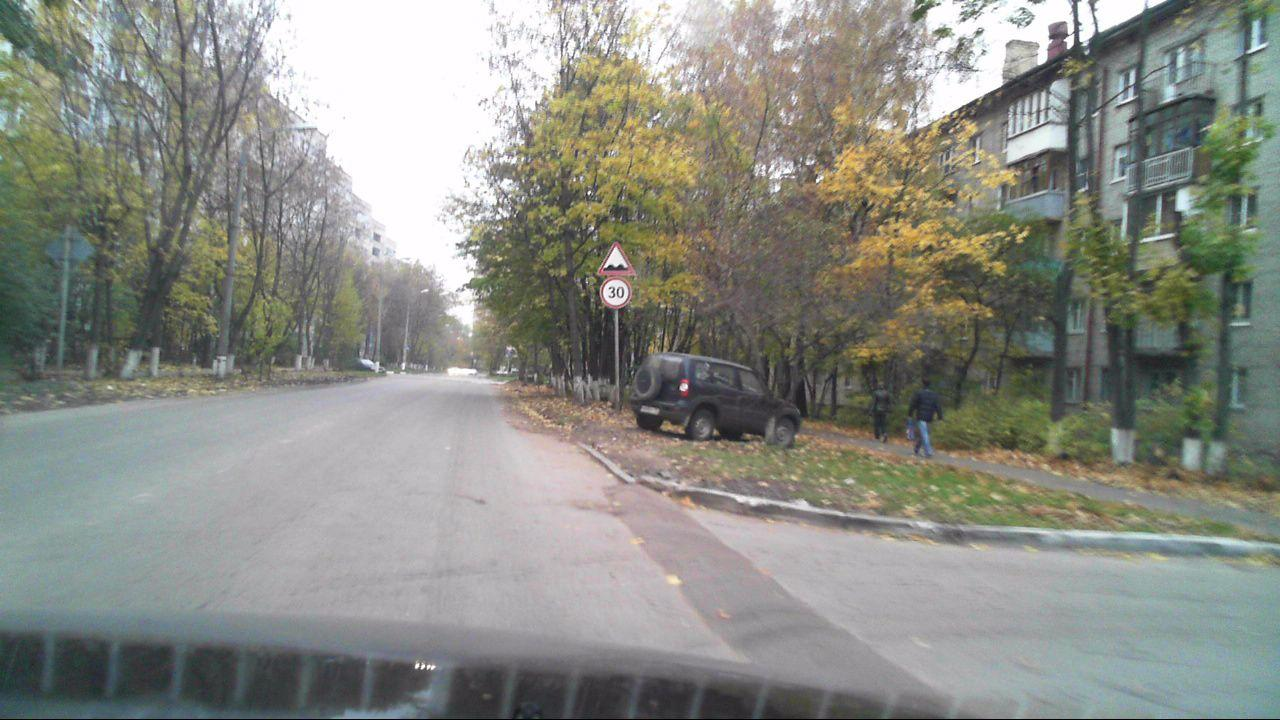1_16: (597, 242, 633, 275)
3_24: (599, 277, 633, 308)
